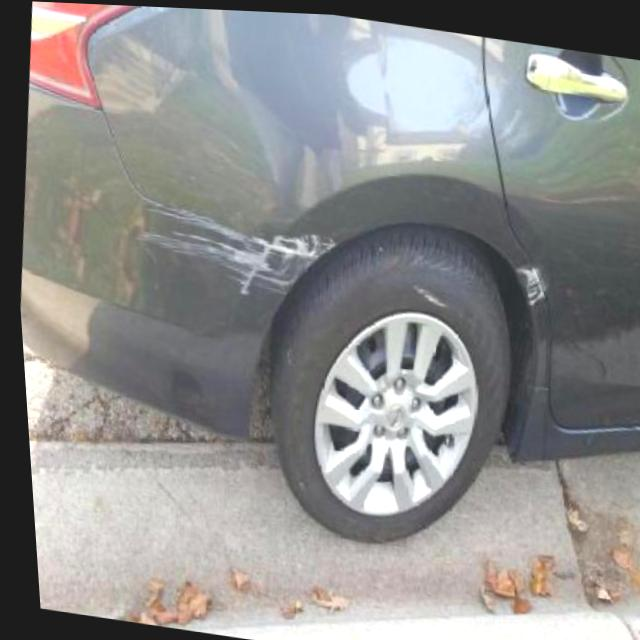Scratch: (140, 197, 343, 297), (511, 258, 550, 308)
